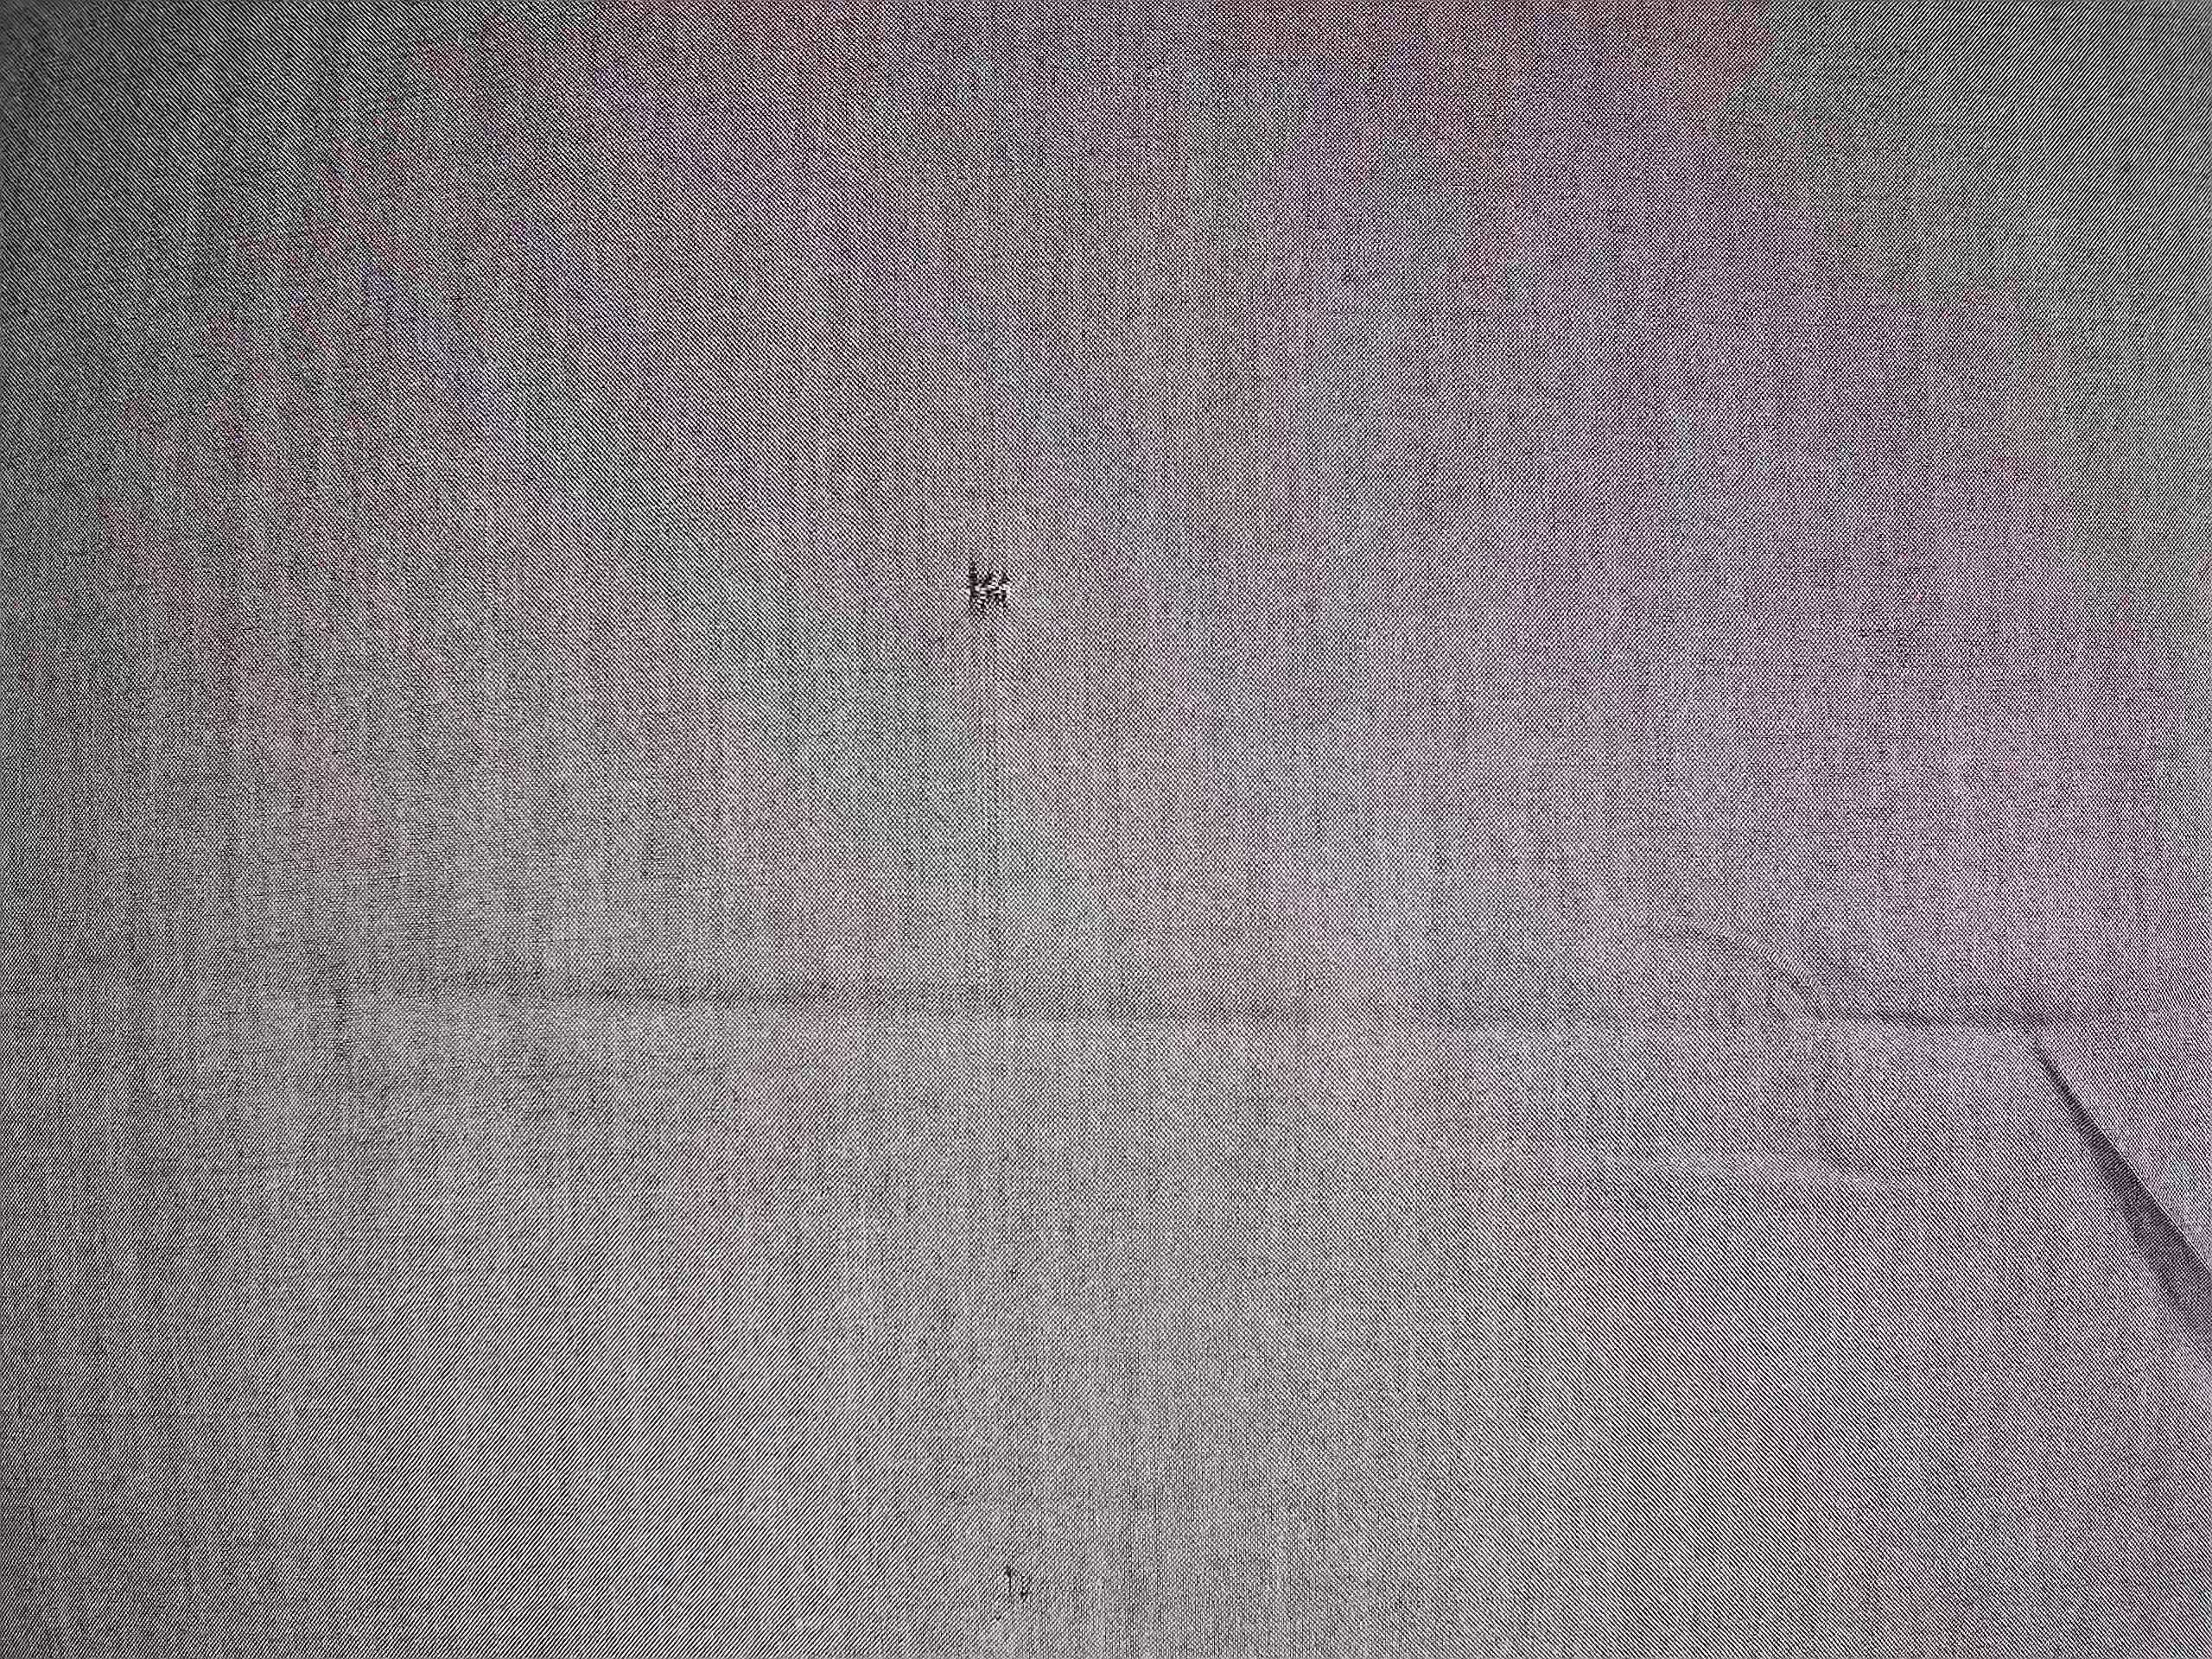hanging-warp: (956, 537, 1021, 875)
